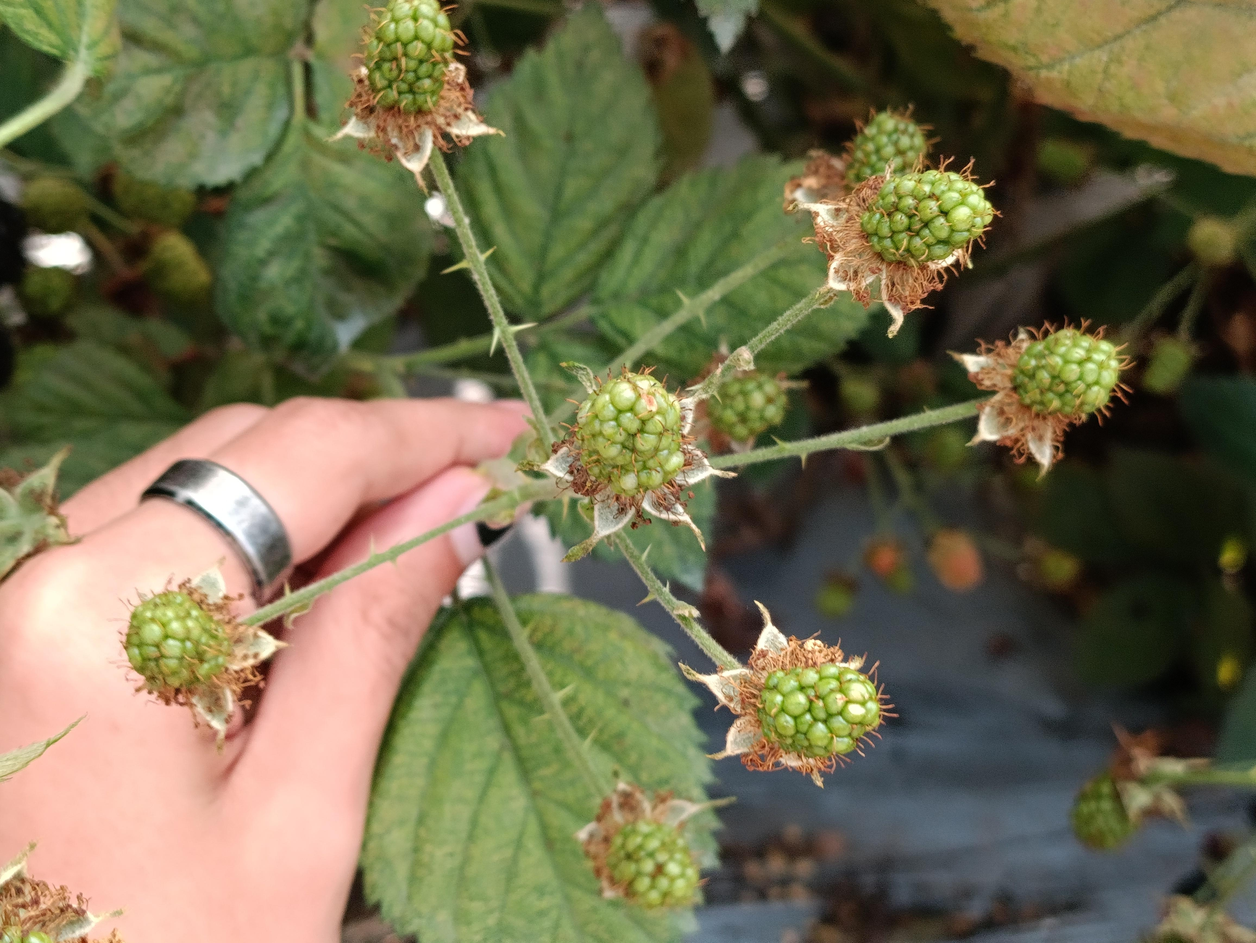verde: (568, 372, 685, 498), (860, 169, 995, 264), (756, 664, 880, 756), (124, 591, 230, 693), (364, 0, 456, 114), (1013, 328, 1120, 414), (608, 821, 698, 907)
